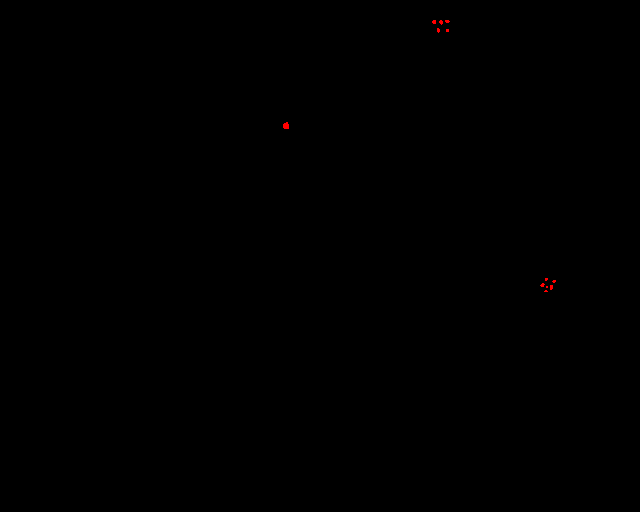Target: (283, 122, 289, 129), (439, 20, 443, 25), (540, 283, 545, 287), (432, 20, 436, 24), (445, 20, 450, 23), (437, 28, 440, 33), (550, 285, 553, 290), (552, 280, 556, 283), (446, 29, 449, 32), (545, 278, 548, 281), (544, 290, 548, 292), (546, 286, 548, 288)
